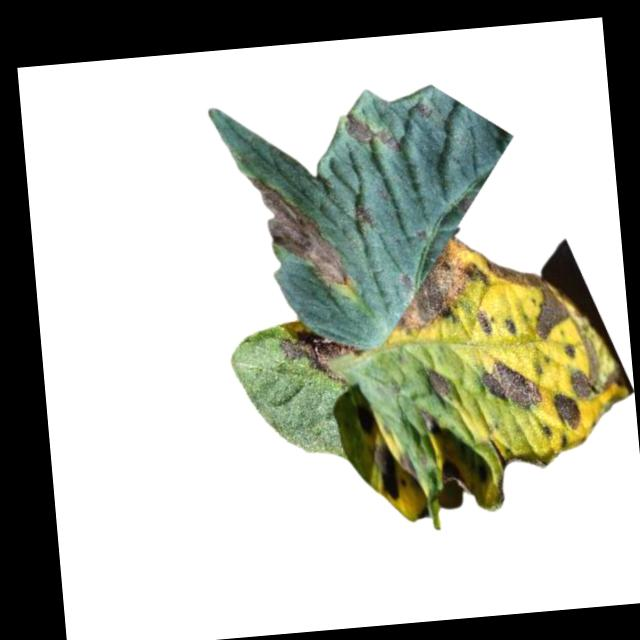Early_blight: (247, 168, 350, 293), (394, 232, 493, 343), (487, 248, 572, 345), (279, 322, 362, 387), (479, 352, 542, 412), (338, 109, 396, 159), (372, 441, 404, 502), (569, 363, 603, 401), (552, 391, 582, 430), (428, 365, 453, 395), (350, 198, 376, 225), (413, 96, 435, 119), (562, 340, 579, 360)
